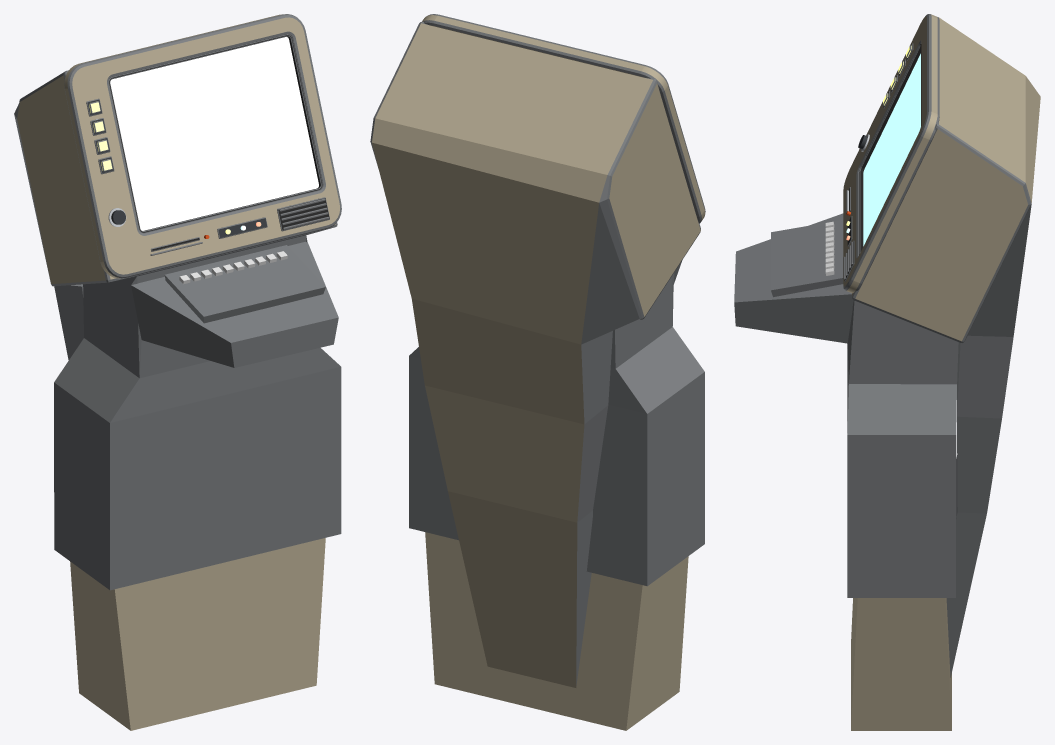
The model's file is standing_terminal.fbx.
The picture shows the model from 3 angles, left to right: view 1: azimuth 30°, elevation 25°; view 2: azimuth 150°, elevation 25°; view 3: azimuth 270°, elevation 25°; orthographic projection. The views are drawn at different scales.
Visible parts, largest first — view 1: Mesh_CrtMonitor_Kiosk_Housing, Mesh_CrtMonitor_Kiosk_Screen, Cube, Mesh_CrtMonitor_Kiosk_Lit; view 2: Mesh_CrtMonitor_Kiosk_Housing; view 3: Mesh_CrtMonitor_Kiosk_Housing, Mesh_CrtMonitor_Kiosk_Screen, Cube.
Boxes of the visible parts, x1=… form: Mesh_CrtMonitor_Kiosk_Housing: x1=14, y1=14, x2=341, y2=730; Mesh_CrtMonitor_Kiosk_Screen: x1=110, y1=37, x2=318, y2=230; Cube: x1=179, y1=251, x2=287, y2=284; Mesh_CrtMonitor_Kiosk_Lit: x1=89, y1=101, x2=261, y2=234; Mesh_CrtMonitor_Kiosk_Housing: x1=370, y1=14, x2=705, y2=730; Mesh_CrtMonitor_Kiosk_Housing: x1=734, y1=14, x2=1040, y2=730; Mesh_CrtMonitor_Kiosk_Screen: x1=863, y1=53, x2=920, y2=246; Cube: x1=825, y1=221, x2=834, y2=275.
Bounding box in the file's own units: 78 × 201 × 89.46.
